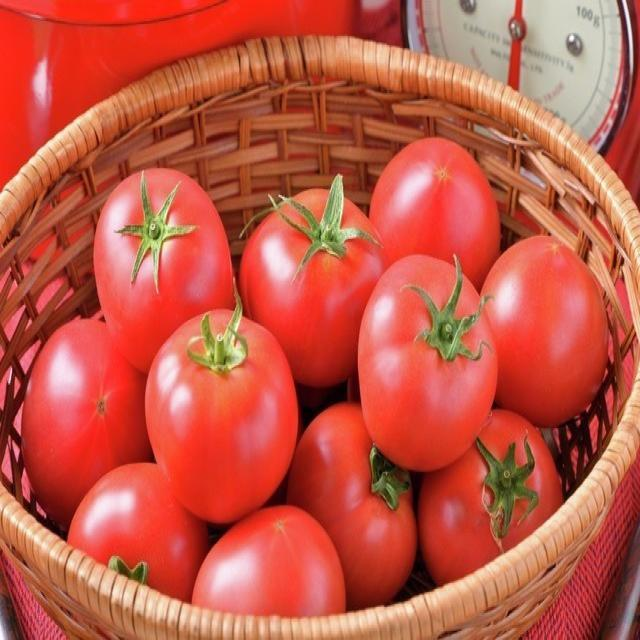kirmizi: (58, 136, 612, 616)
